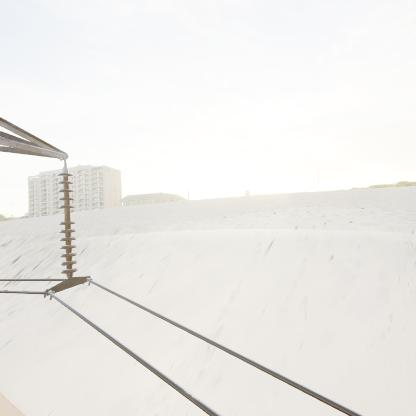insulator: (56, 168, 79, 280)
